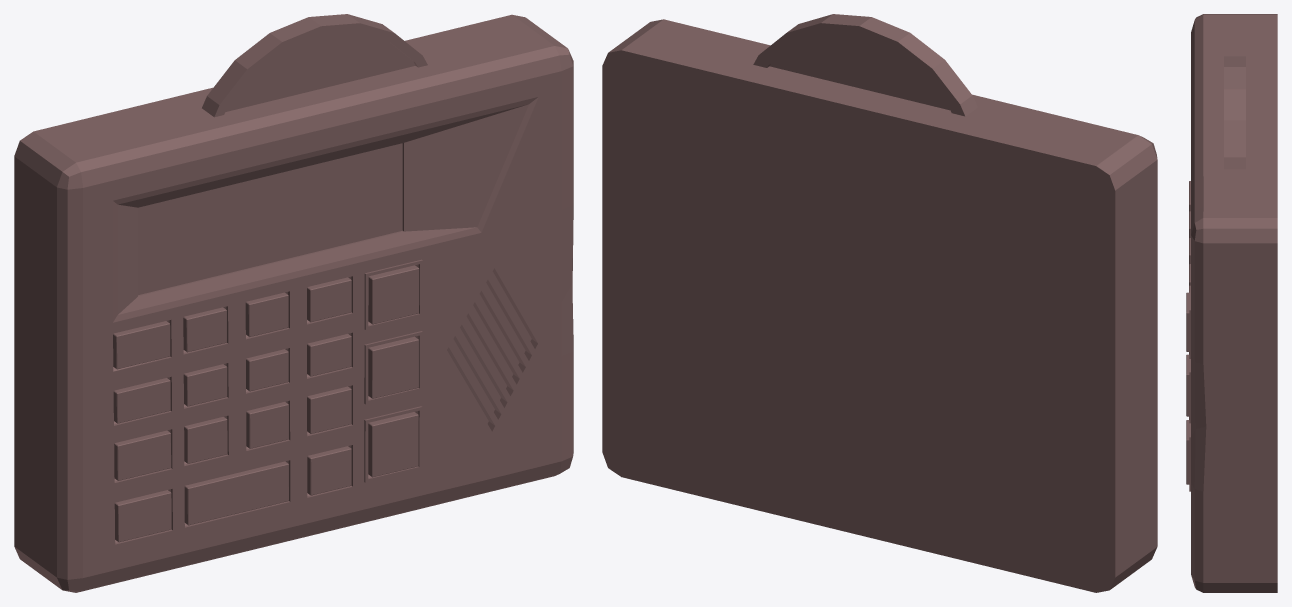
Rendered from SecurityBox.fbx.
The picture shows the model from 3 angles, left to right: view 1: azimuth 30°, elevation 25°; view 2: azimuth 150°, elevation 25°; view 3: azimuth 270°, elevation 25°; orthographic projection. The views are drawn at different scales.
Visible parts, largest first — view 1: pCube18, pCylinder18; view 2: pCube18, pCylinder18; view 3: pCube18, pCylinder18.
Part boxes in pixels (x1,y1,x2,y2): pCube18: [14, 14, 573, 592]; pCylinder18: [202, 14, 427, 117]; pCube18: [602, 19, 1157, 592]; pCylinder18: [753, 14, 977, 116]; pCube18: [1186, 14, 1277, 592]; pCylinder18: [1224, 56, 1245, 169].
Bounding box in the file's own units: 1.28 × 1.17 × 0.2258.
